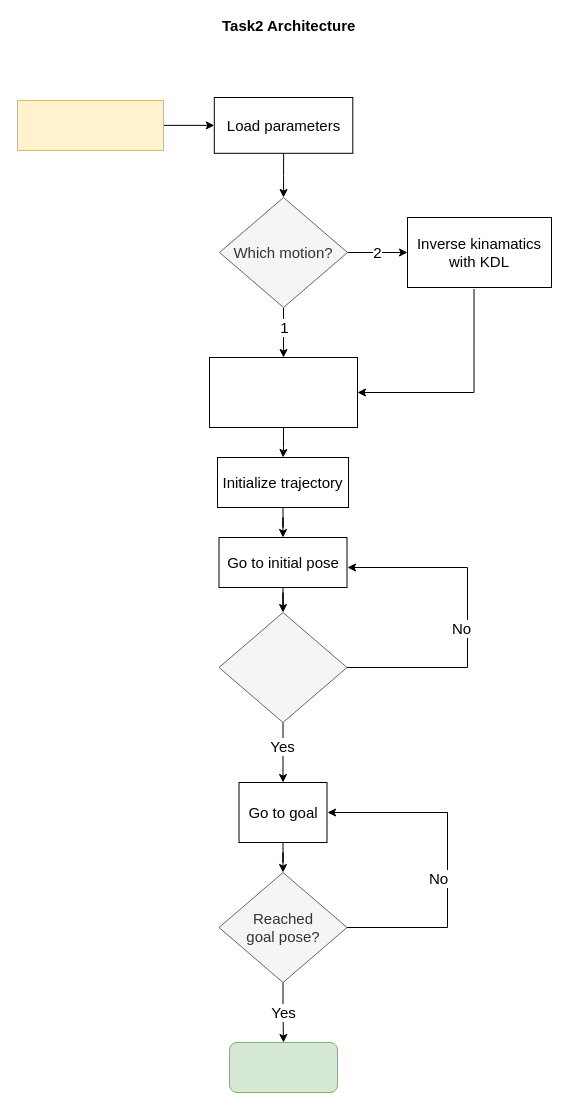
This 569x1110 diagram has some shape labels left out. The shapes that lost their labels are listed below. From the top down, each one's centre as x and y in pixels, then its label:
At (x=90, y=124): "Start node".
At (x=283, y=392): "Initialize Reflexxes parameters".
At (x=282, y=667): "Reached initial pose?".
At (x=283, y=1067): "End node".
